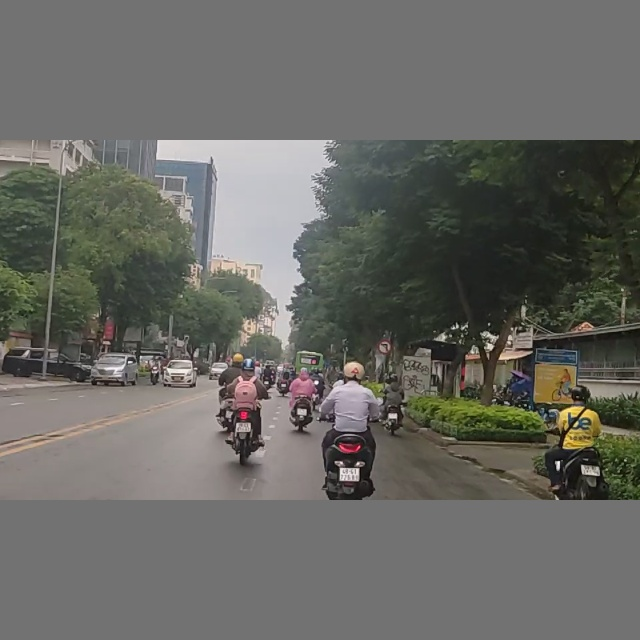P.123a: (377, 340, 393, 355)
